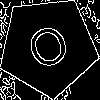O: (23, 21, 77, 80)
